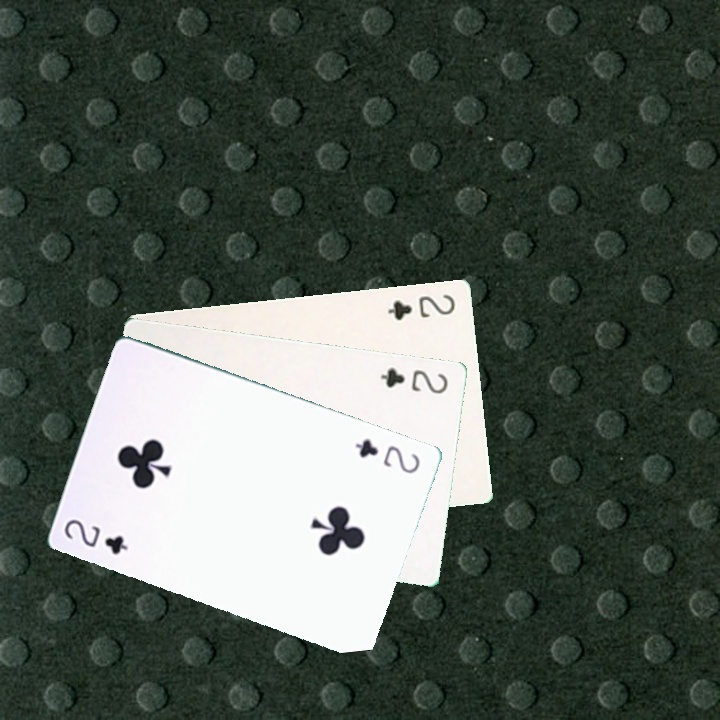2c: (351, 433, 423, 477), (60, 515, 131, 557), (376, 363, 450, 397), (383, 290, 458, 323)
